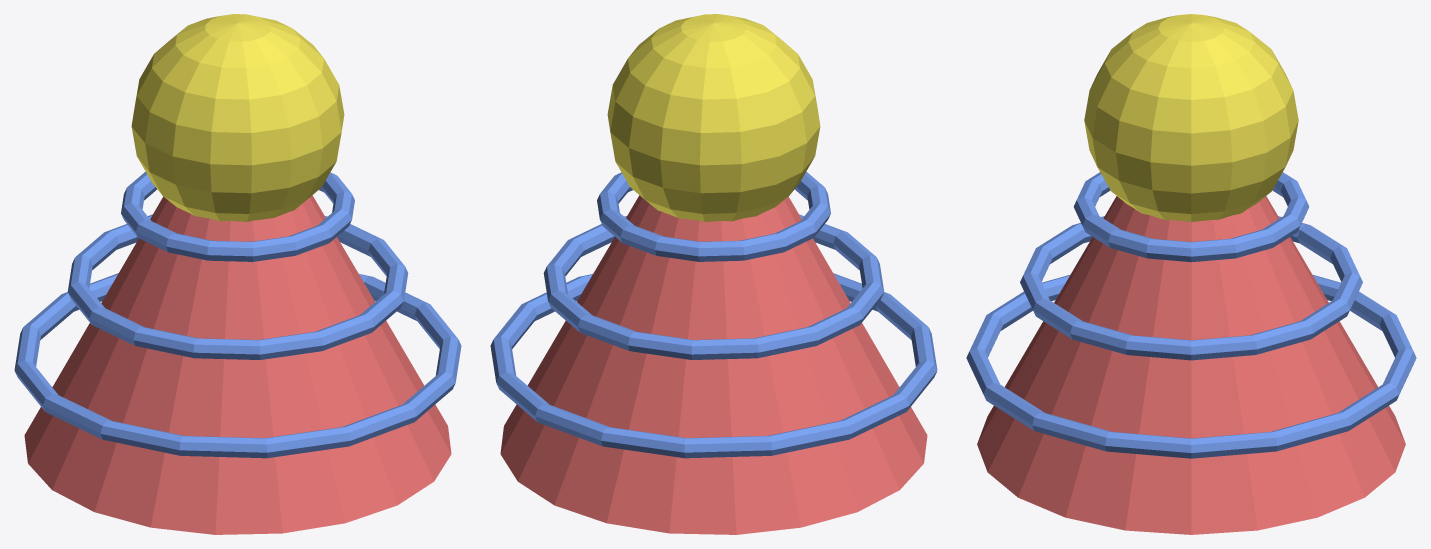
The model's file is spinning_top.fbx.
The picture shows the model from 3 angles, left to right: view 1: azimuth 30°, elevation 25°; view 2: azimuth 150°, elevation 25°; view 3: azimuth 270°, elevation 25°; orthographic projection.
Parts seen in each view (by area): view 1: ST_Body, ST_Dome, ST_Ring0, ST_Ring1, ST_Ring2; view 2: ST_Body, ST_Dome, ST_Ring0, ST_Ring1, ST_Ring2; view 3: ST_Body, ST_Dome, ST_Ring0, ST_Ring1, ST_Ring2.
Boxes of the visible parts, x1,y1,x2,y2 form: ST_Body: (24,195,451,534); ST_Dome: (131,14,344,221); ST_Ring0: (14,273,461,458); ST_Ring1: (67,214,408,359); ST_Ring2: (121,172,354,261); ST_Body: (500,195,927,534); ST_Dome: (607,14,820,221); ST_Ring0: (490,273,937,458); ST_Ring1: (543,214,884,359); ST_Ring2: (597,172,830,261); ST_Body: (977,196,1405,534); ST_Dome: (1084,14,1298,221); ST_Ring0: (966,275,1416,458); ST_Ring1: (1020,216,1362,360); ST_Ring2: (1073,172,1309,262).
Size of the model in its own units: 75.6 by 90 by 75.6.
